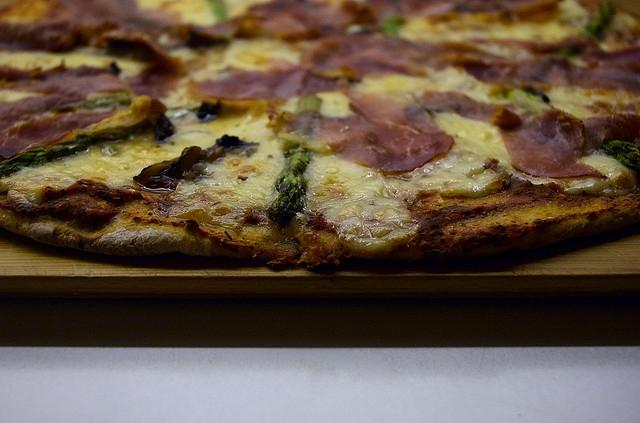asparagus: (268, 94, 323, 223), (10, 119, 152, 168), (552, 2, 615, 59), (72, 44, 144, 62), (602, 140, 640, 169), (86, 92, 136, 108), (378, 15, 407, 37), (208, 0, 228, 23)
